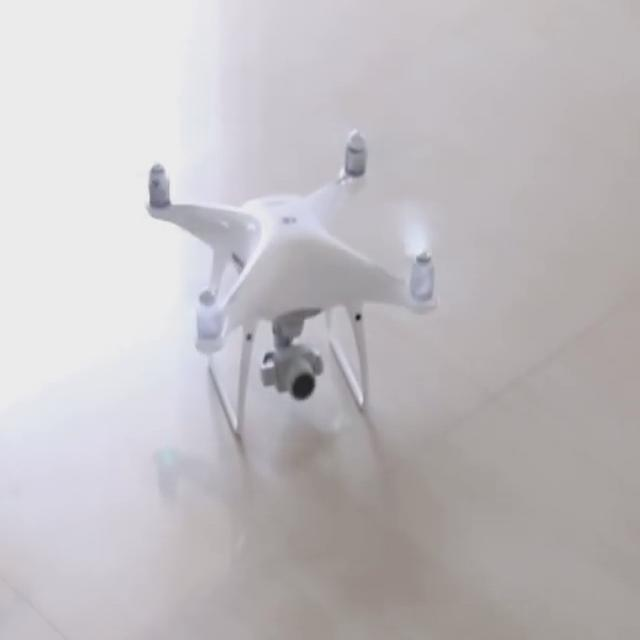drone: (133, 117, 456, 366)
